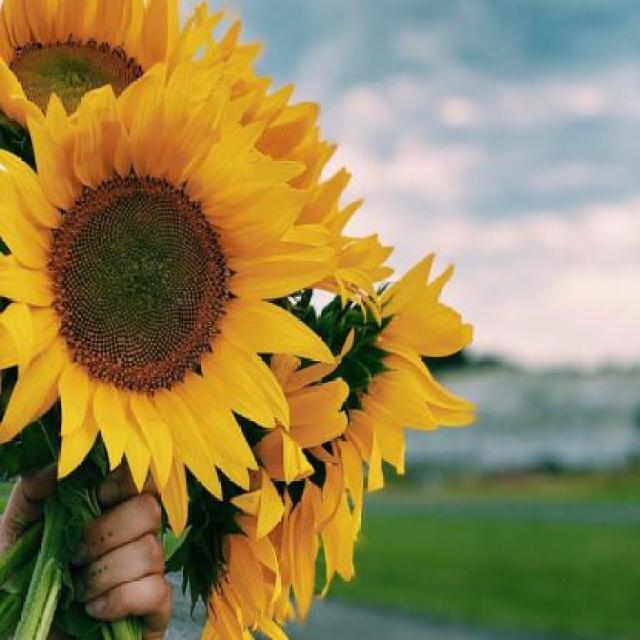sunflower: (2, 54, 343, 538)
